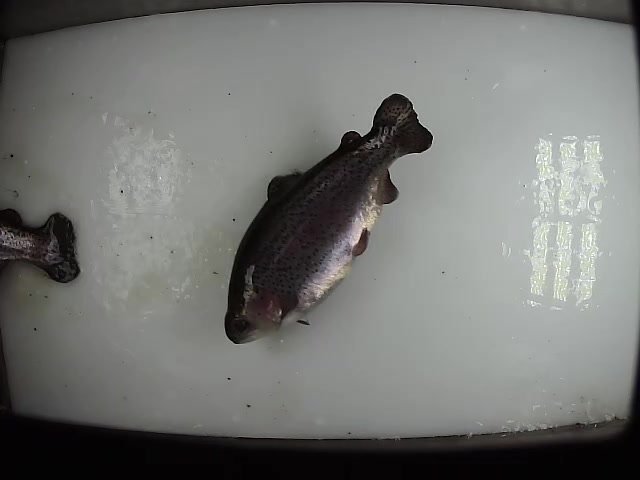fish: (221, 92, 434, 348)
